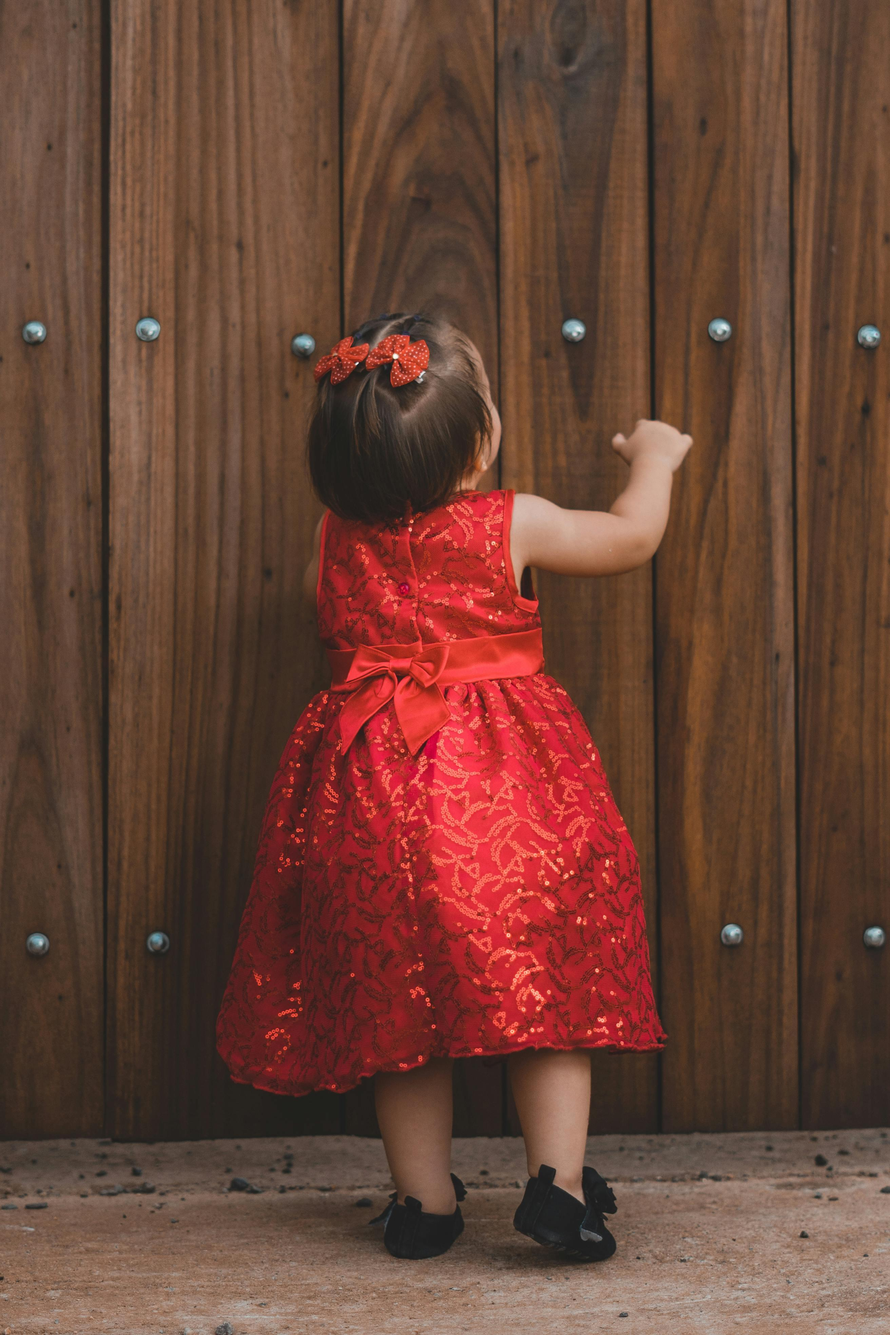Human: (259, 279, 704, 1311)
